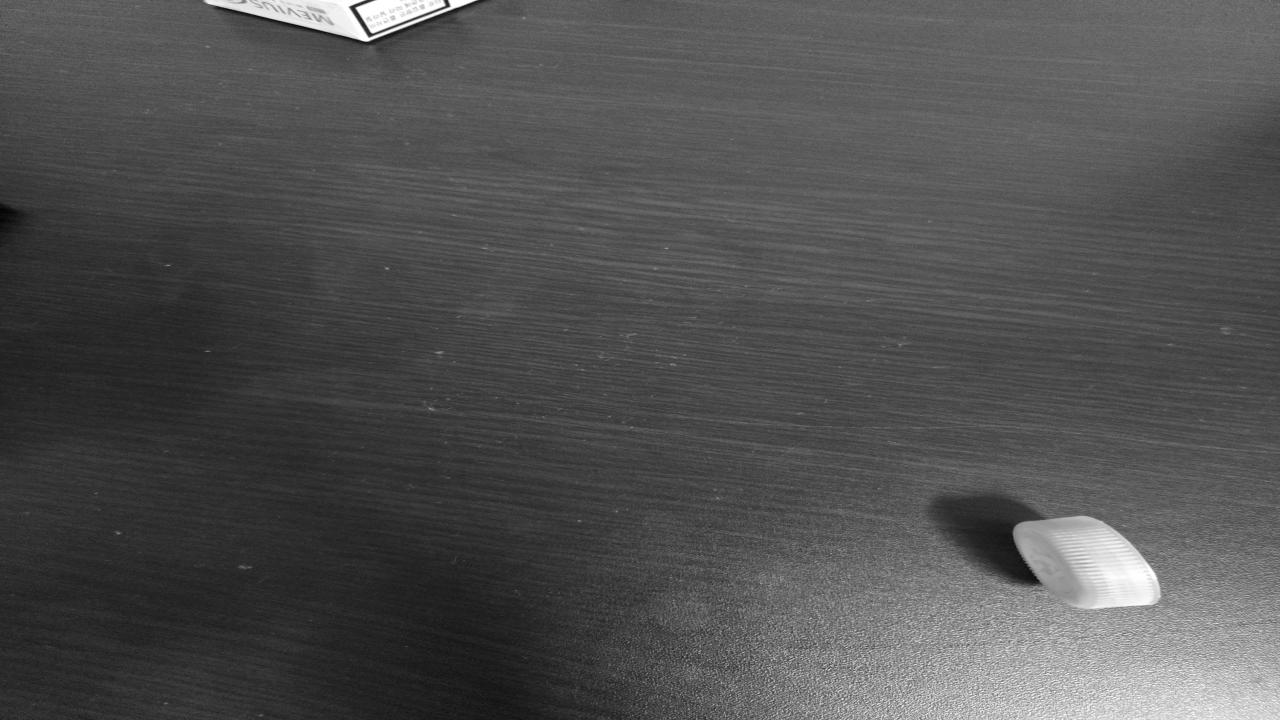bottle_cap: (1020, 516, 1160, 606)
